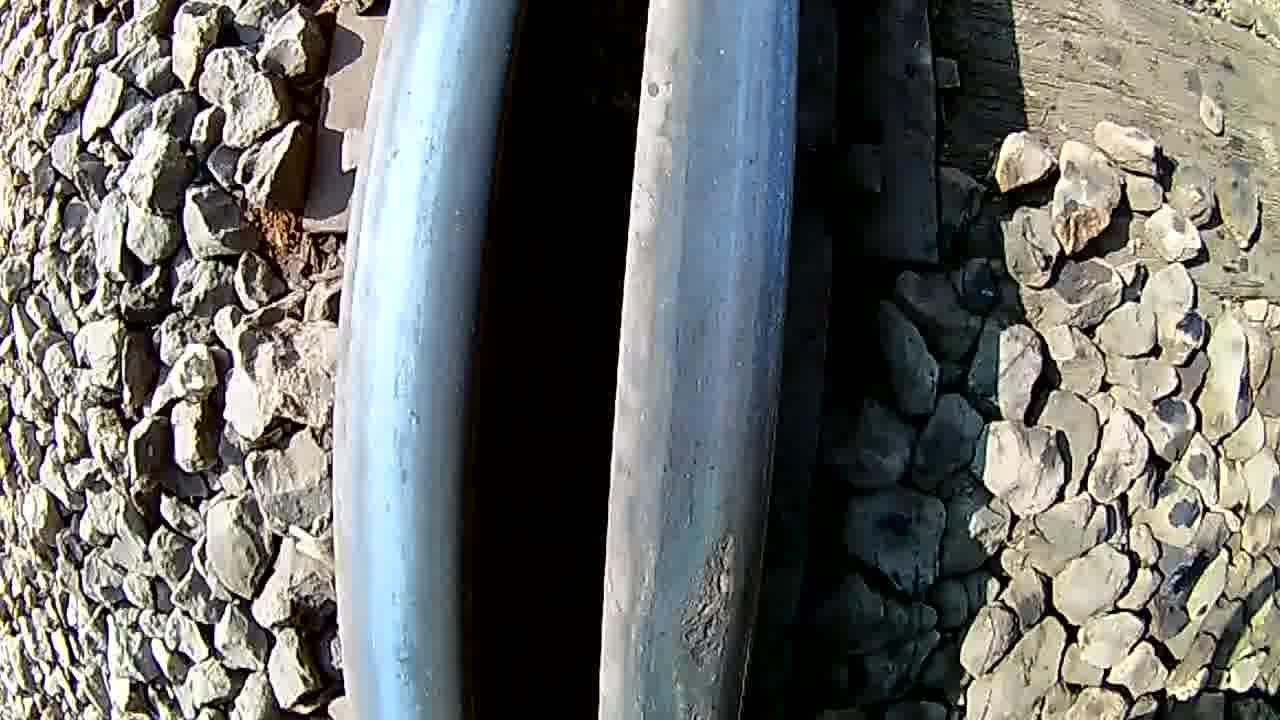crack: (638, 317, 781, 720)
